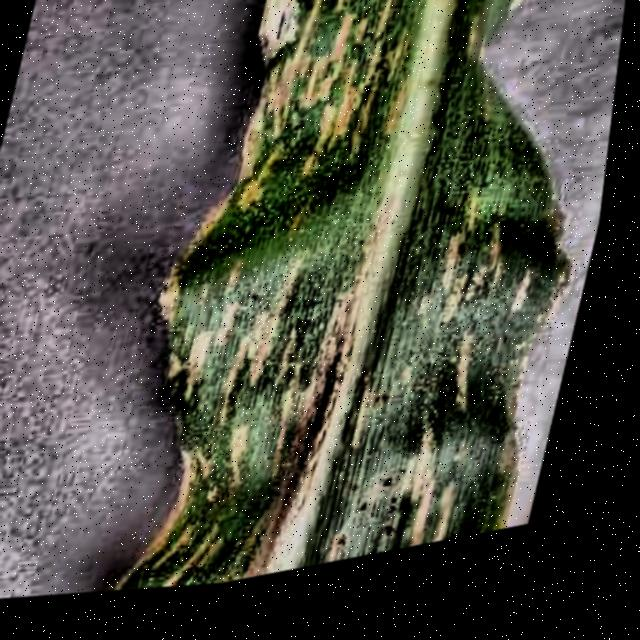blight: (88, 0, 640, 608)
